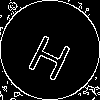H: (25, 25, 78, 83)
